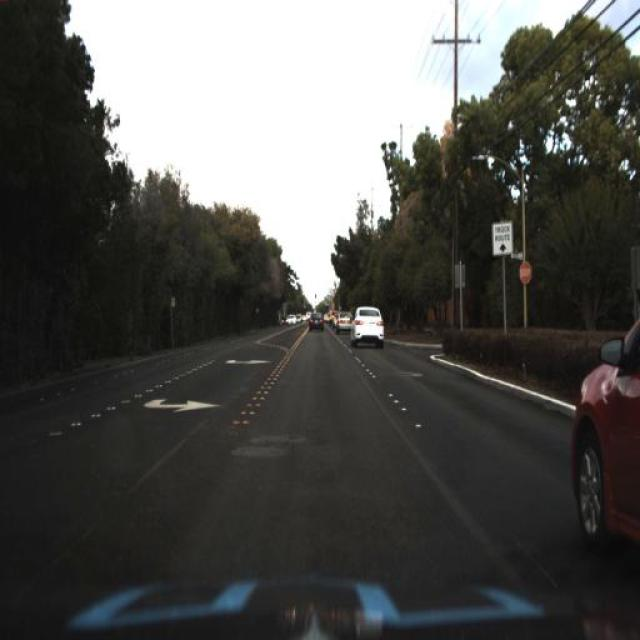car: (568, 298, 640, 560), (348, 299, 389, 349), (334, 306, 358, 336), (306, 310, 326, 338)
